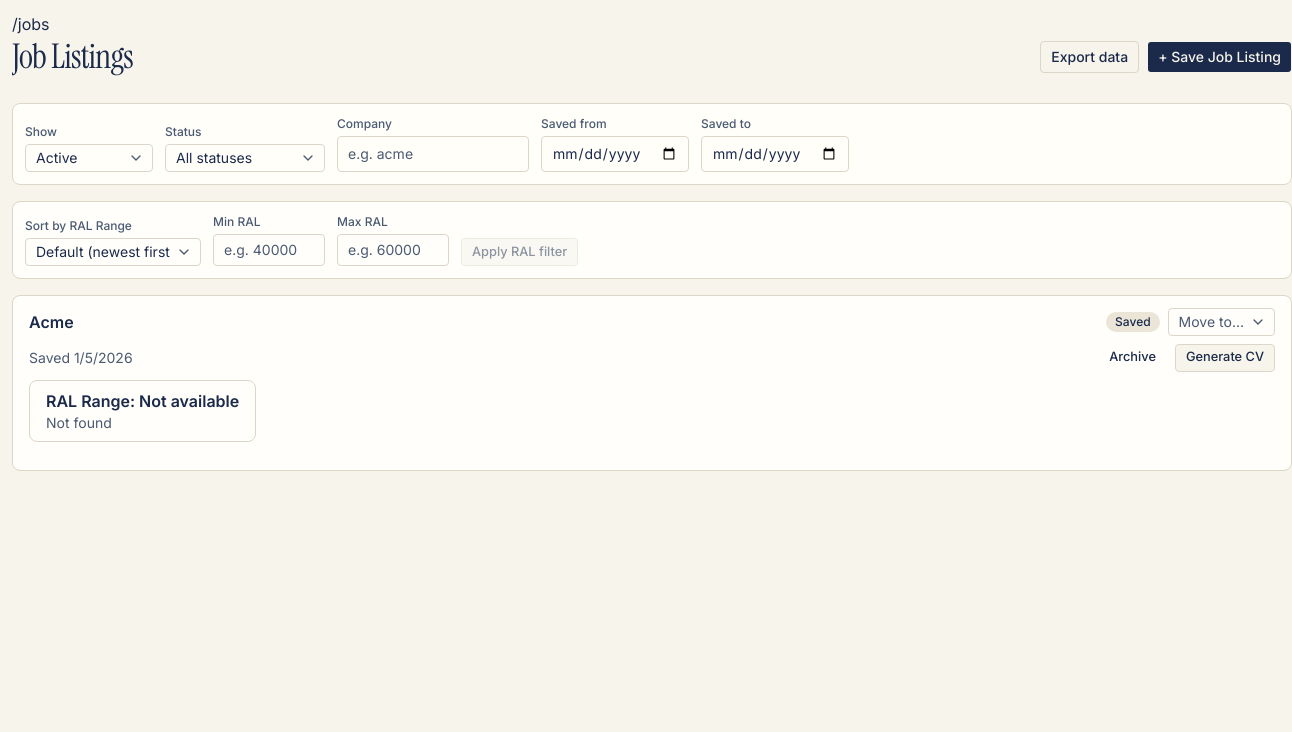
Archiving a row › ArchiveButton_RequestFails_ShowsTheErrorInlineAndKeepsTheRow
Click the button "Archive" at point(1133, 358), box [1098,344,1167,372]
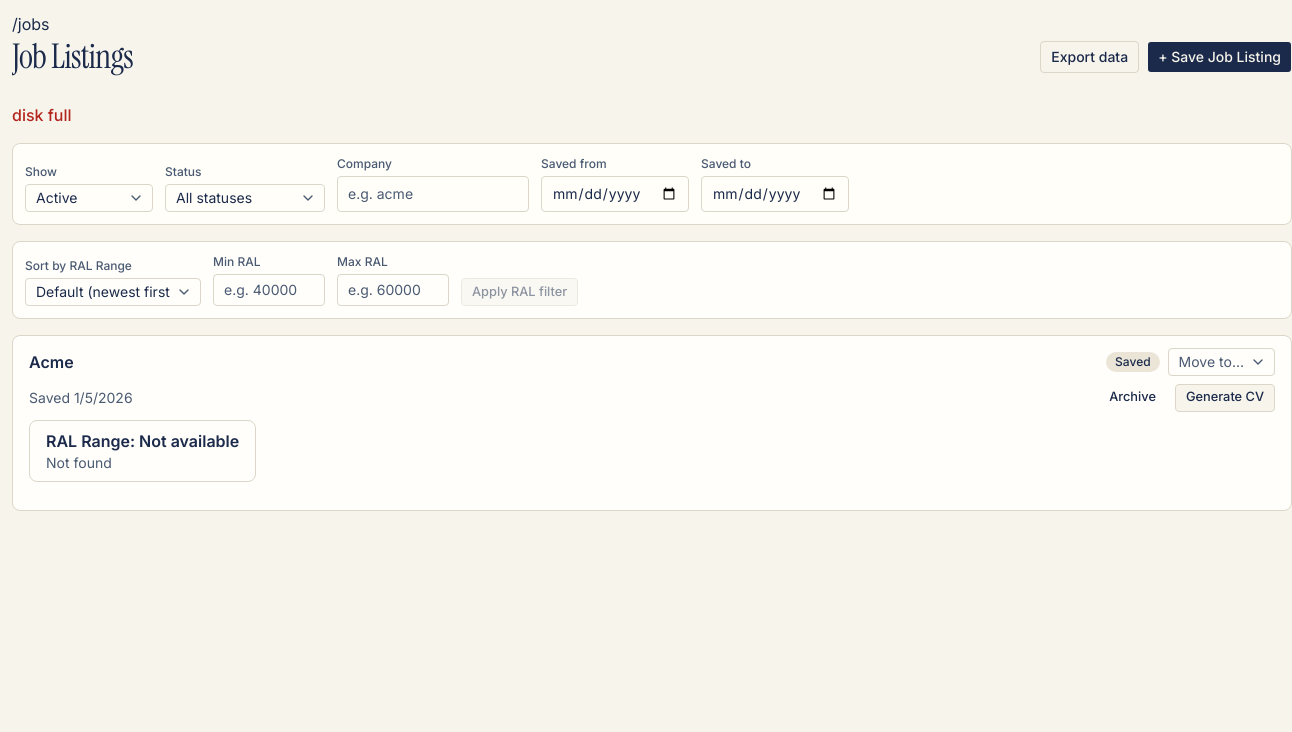
Expected: the link "Acme" is shown, [29,350,74,374]
Expected: the message reads "disk full", [12,104,72,124]
